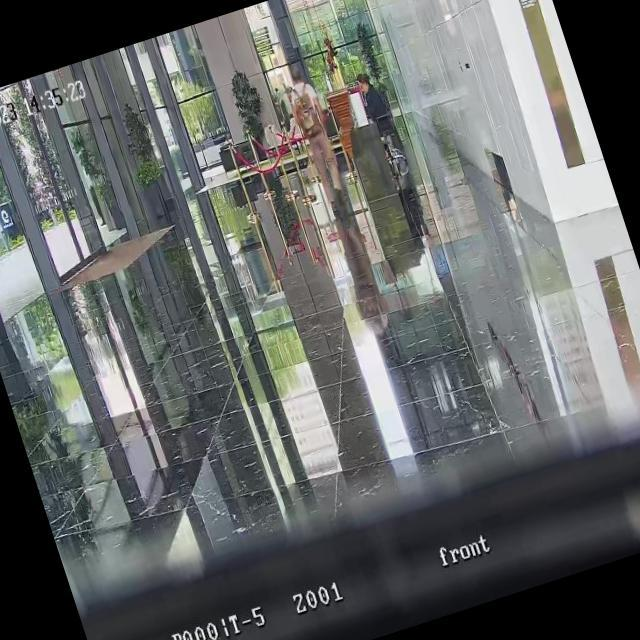person: (278, 61, 355, 217), (354, 68, 396, 138)
